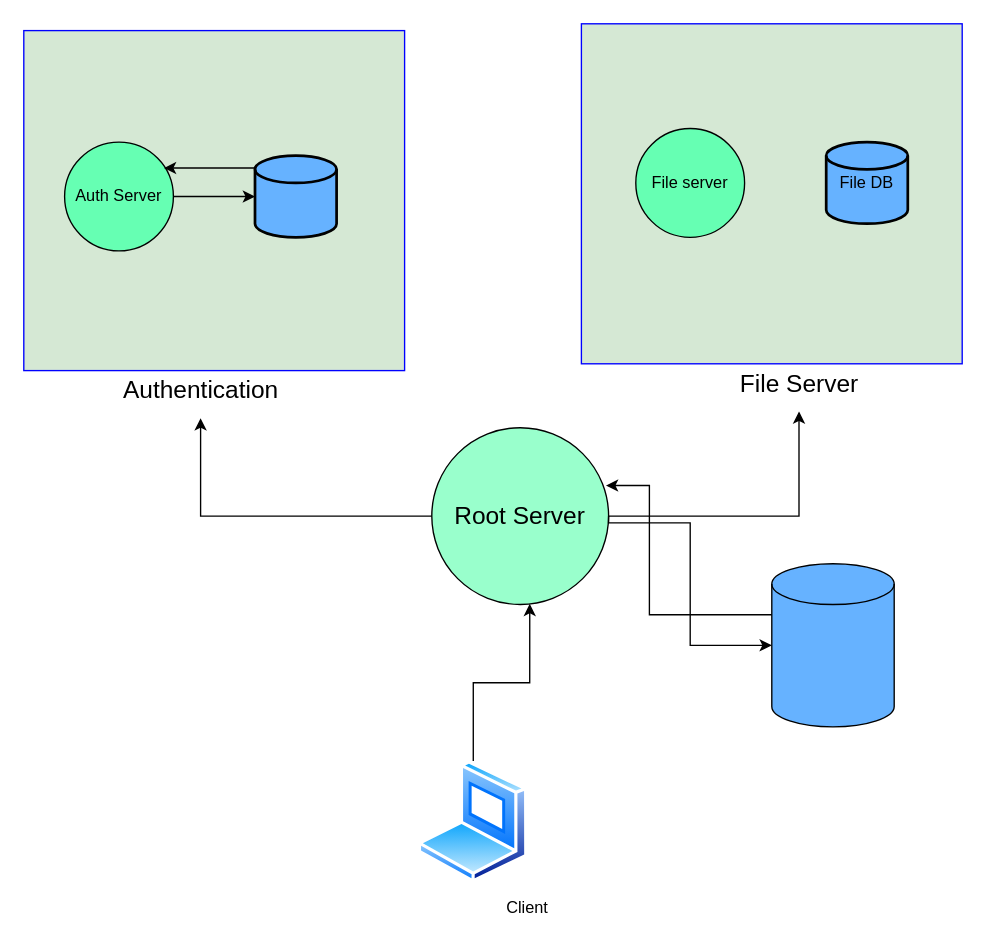
The diagram is 986 pixels wide and 952 high, and some of its shapes have lost their labels. The shapes that lost their labels are listed below. From the top down, each one's centre as x and y in pixels, then its label:
At point (295, 196): "Auth DB".
At point (832, 644): "Root Database".
